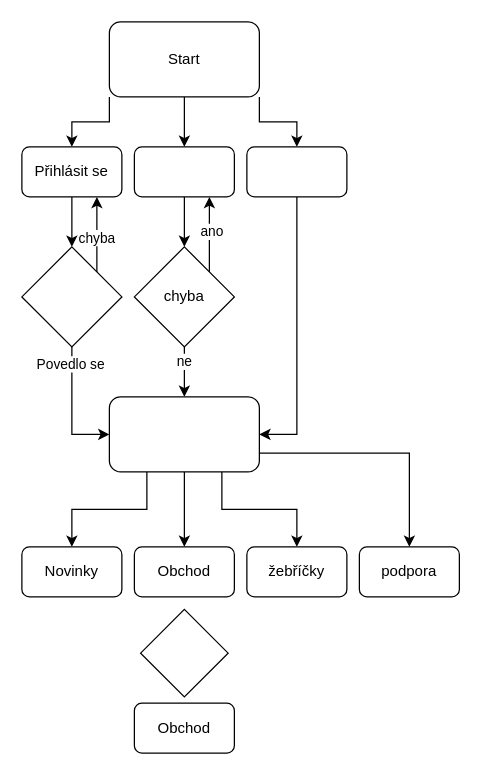
This 481x775 diagram has some shape labels left out. The shapes that lost their labels are listed below. From the top down, each one's centre as x and y in pixels, then its label:
At point (183, 171): "vytvořit si účet".
At point (296, 171): "Nepřihlašovat se".
At point (71, 296): "úspěšně přihlášeno".
At point (183, 434): "Úvodní stránka".
